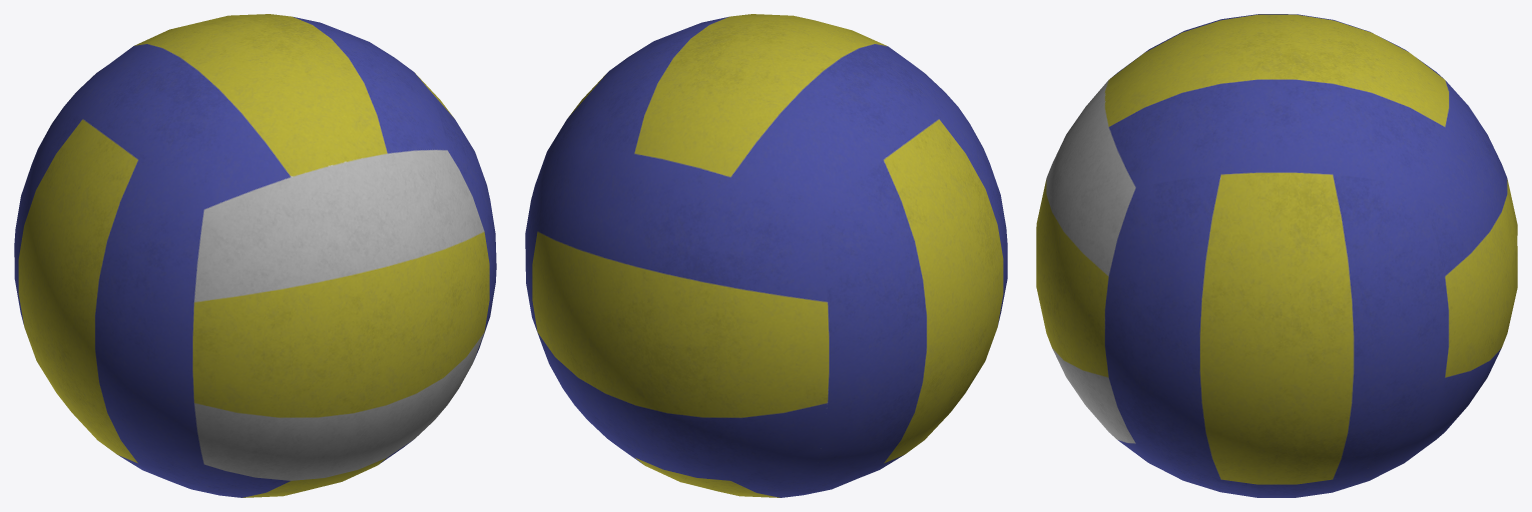
Rendered from generic_volleyball_ball_low-poly.glb.
The picture shows the model from 3 angles, left to right: view 1: azimuth 30°, elevation 25°; view 2: azimuth 150°, elevation 25°; view 3: azimuth 270°, elevation 25°; orthographic projection.
Visible parts, largest first — view 1: volleyball; view 2: volleyball; view 3: volleyball.
Boxes of the visible parts, x1,y1,x2,y2 form: volleyball: [14, 14, 496, 497]; volleyball: [525, 14, 1007, 497]; volleyball: [1036, 14, 1517, 497].
Bounding box in the file's own units: 0.2399 × 0.24 × 0.2401.
1 material, 1 textured.
